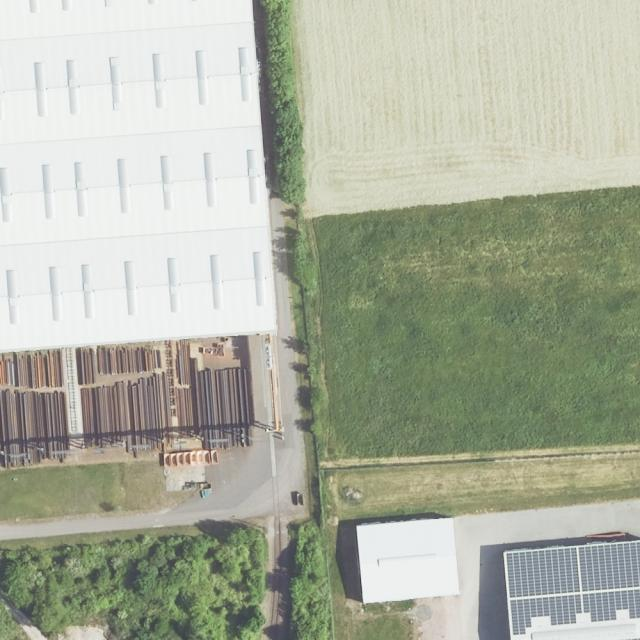PV: (504, 539, 640, 636)
